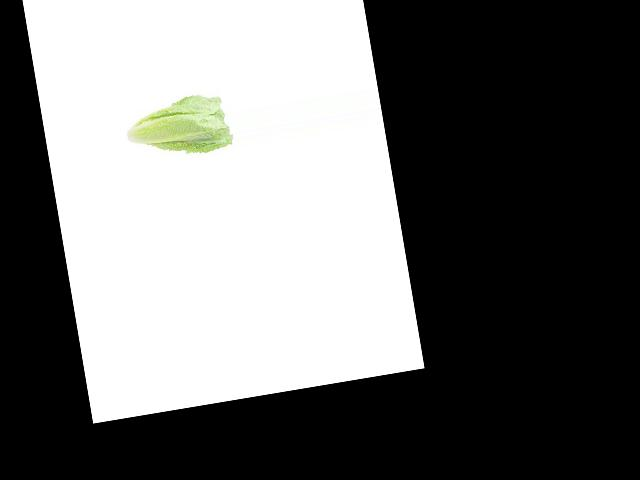lettuce: (140, 60, 233, 187)
